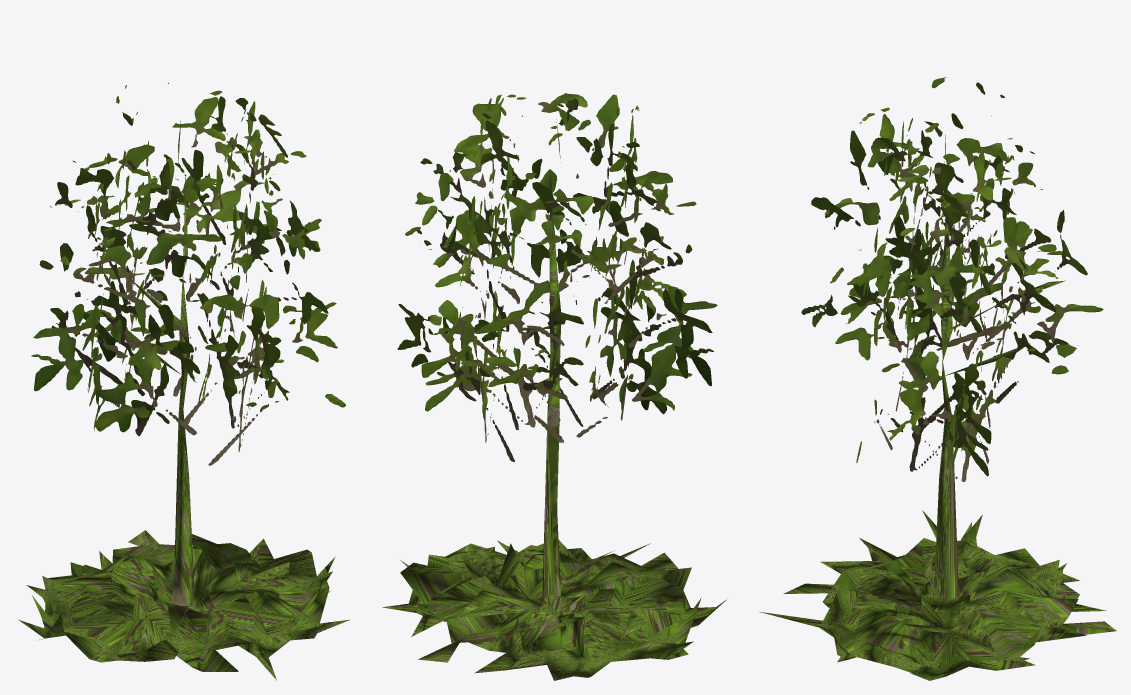
File: tree_small.glb
3 views of the same model, side by side, from view 1: azimuth 30°, elevation 25°; view 2: azimuth 150°, elevation 25°; view 3: azimuth 270°, elevation 25° (orthographic). The views are drawn at different scales.
Parts seen in each view (by area): view 1: tree_small; view 2: tree_small; view 3: tree_small.
Part boxes in pixels (x1,y1,x2,y2): tree_small: [18, 83, 349, 680]; tree_small: [382, 93, 726, 680]; tree_small: [759, 77, 1116, 680].
Bounding box in the file's own units: 0.6397 × 0.9858 × 0.6073.
Materials: 1 (1 with a texture image).
